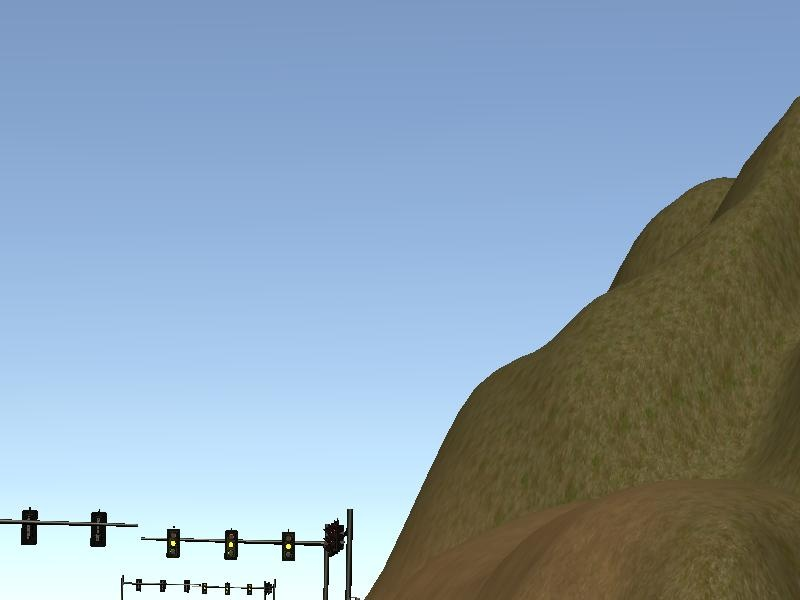yellow: (278, 526, 298, 562), (165, 526, 184, 562), (224, 526, 239, 562)
